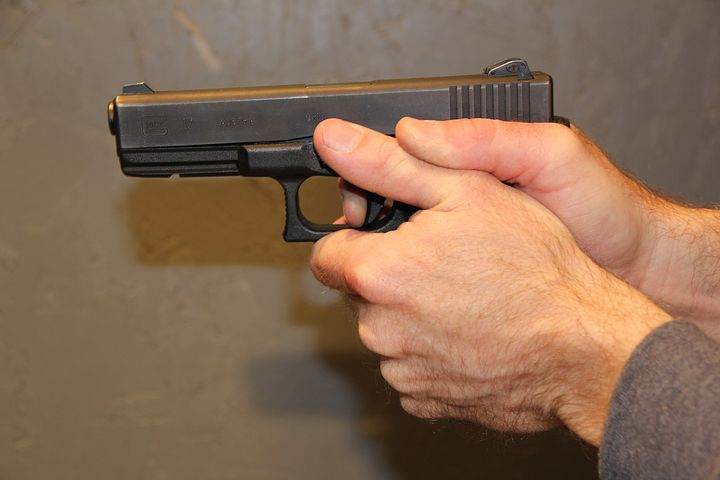gun: (99, 53, 572, 260)
